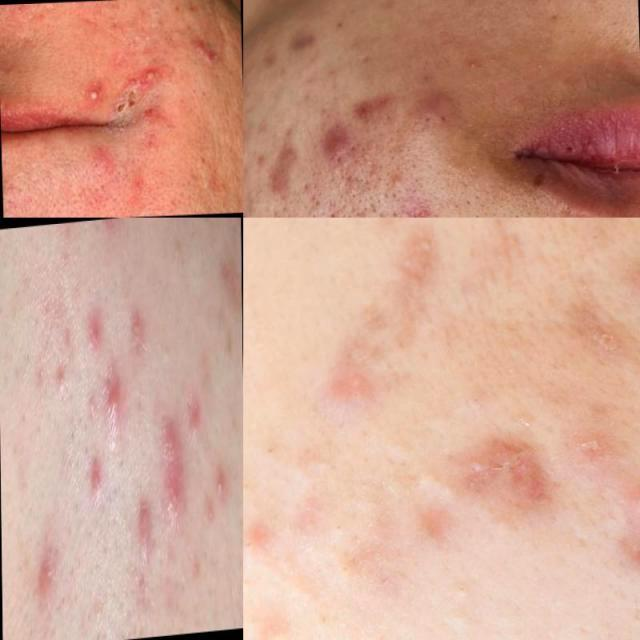Pimples: (358, 218, 453, 336), (472, 411, 548, 518), (160, 408, 184, 550), (344, 88, 396, 136), (278, 16, 326, 66), (410, 76, 458, 122), (265, 138, 297, 200), (314, 116, 356, 162), (96, 364, 121, 422), (128, 493, 152, 553), (210, 432, 228, 506), (182, 382, 202, 448), (84, 282, 99, 360), (396, 195, 443, 218), (80, 72, 106, 106), (88, 450, 101, 518), (114, 60, 140, 90), (382, 164, 402, 196), (466, 45, 484, 77), (141, 58, 158, 91), (200, 43, 216, 69)
